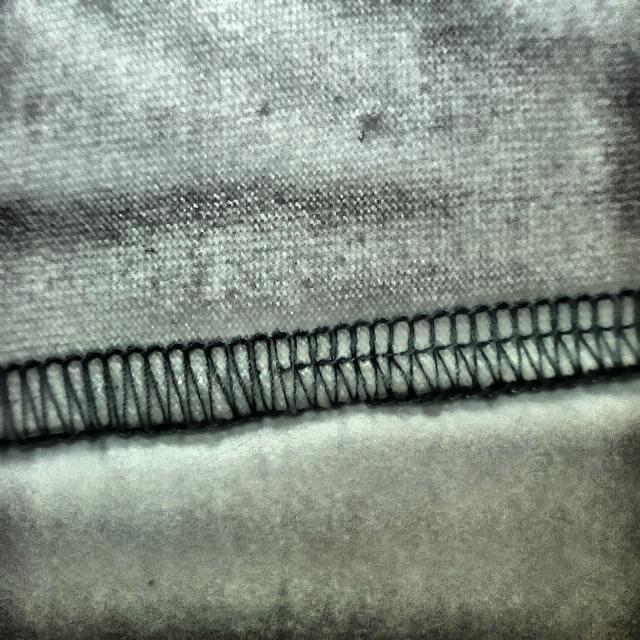gray stitch: (82, 307, 470, 439)
